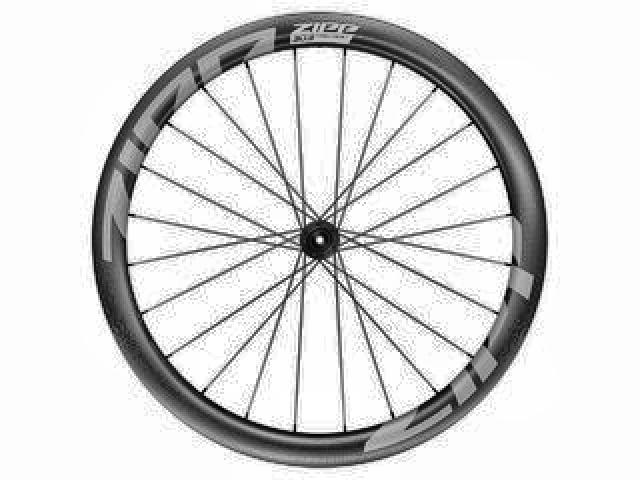wheel: (89, 8, 552, 473)
